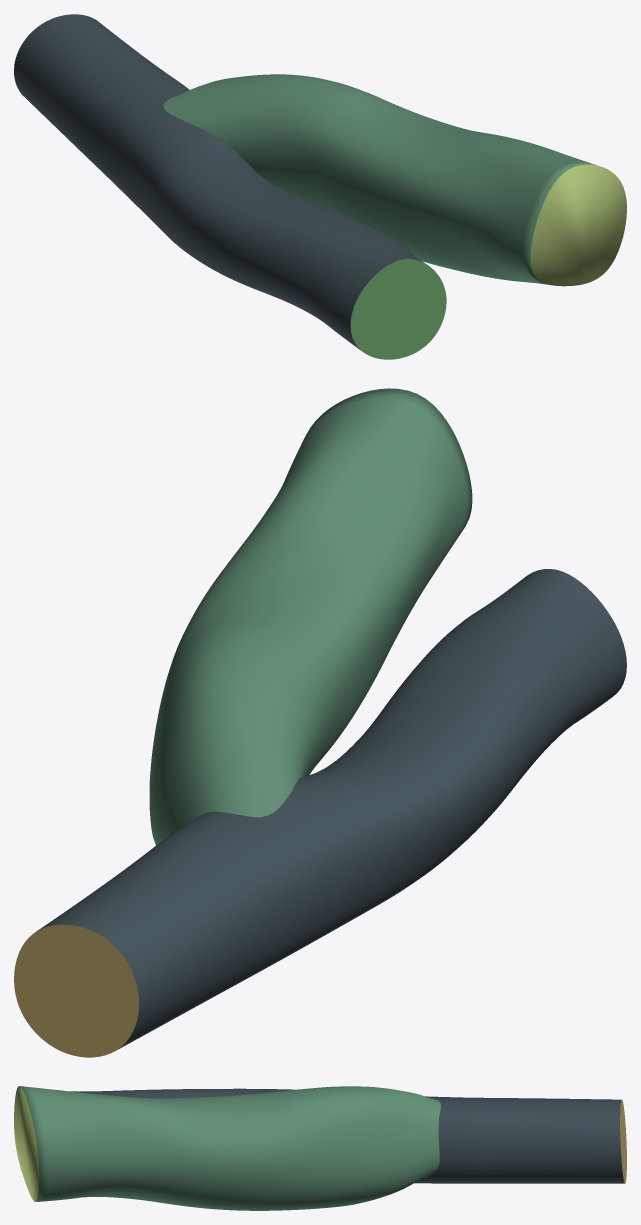
Rendered from Vessel (Cut Model).fbx.
3 views of the same model, one above another, from view 1: azimuth 30°, elevation 25°; view 2: azimuth 150°, elevation 25°; view 3: azimuth 270°, elevation 25° (orthographic). The views are drawn at different scales.
Parts seen in each view (by area): view 1: Tight Vessel, Main; view 2: Main, Tight Vessel; view 3: Tight Vessel, Main.
Boxes of the visible parts, x1,y1,x2,y2 form: Tight Vessel: (163,74,626,286); Main: (14,14,446,359); Main: (14,569,626,1057); Tight Vessel: (149,388,472,845); Tight Vessel: (14,1086,440,1210); Main: (70,1088,626,1183).
Size of the model in its own units: 22.49 by 14.13 by 52.49.
